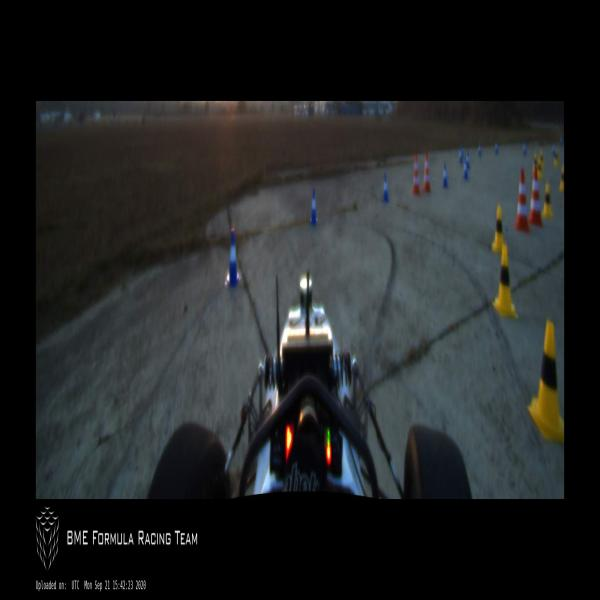blue_cone: (226, 228, 240, 288), (309, 189, 318, 225), (382, 173, 389, 202), (442, 163, 448, 189), (463, 158, 468, 180), (459, 147, 463, 165), (466, 151, 469, 169), (553, 142, 556, 158), (478, 143, 481, 157), (495, 141, 498, 155), (523, 142, 526, 154), (560, 136, 563, 146)
large_orange_cone: (514, 169, 529, 234), (528, 164, 540, 228), (411, 153, 420, 196), (423, 150, 431, 193)
yellow_cone: (527, 321, 564, 444), (493, 245, 518, 320), (493, 205, 505, 251), (542, 183, 552, 218), (559, 167, 564, 191), (538, 158, 542, 180), (540, 148, 544, 167), (555, 149, 558, 165), (534, 154, 537, 167)
